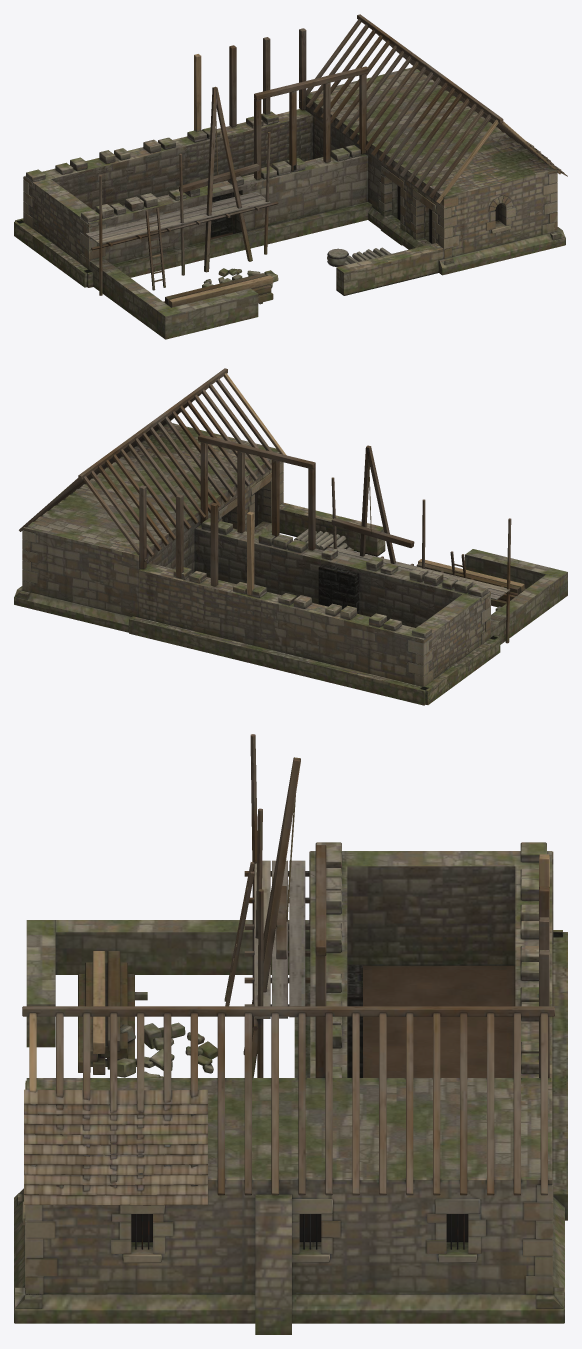
The model's file is barracks_build2.glb.
3 renders of one model, top to bottom at view 1: azimuth 30°, elevation 25°; view 2: azimuth 150°, elevation 25°; view 3: azimuth 270°, elevation 25°, orthographic. The views are drawn at different scales.
Parts seen in each view (by area): view 1: barracks_build2_LOD0; view 2: barracks_build2_LOD0; view 3: barracks_build2_LOD0.
Boxes of the visible parts, left/top/right/bottom form: barracks_build2_LOD0: left=14, top=14, right=567, bottom=339; barracks_build2_LOD0: left=14, top=368, right=567, bottom=705; barracks_build2_LOD0: left=14, top=734, right=567, bottom=1334.
Size of what is drawn, in the model's own units: 17.25 by 6.77 by 10.54.
Materials: 1 (1 with a texture image).
